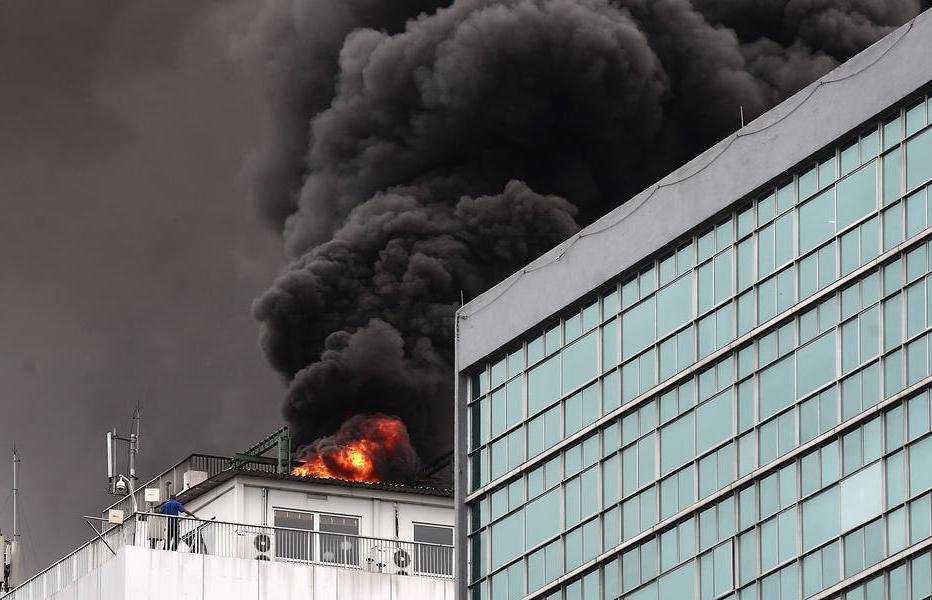Fire: (288, 424, 397, 483)
